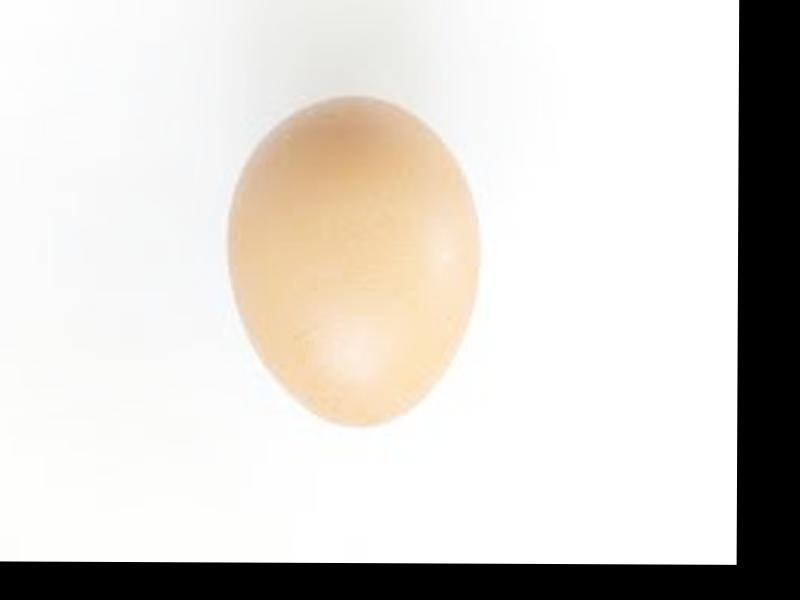Eggs: (223, 91, 478, 433)
